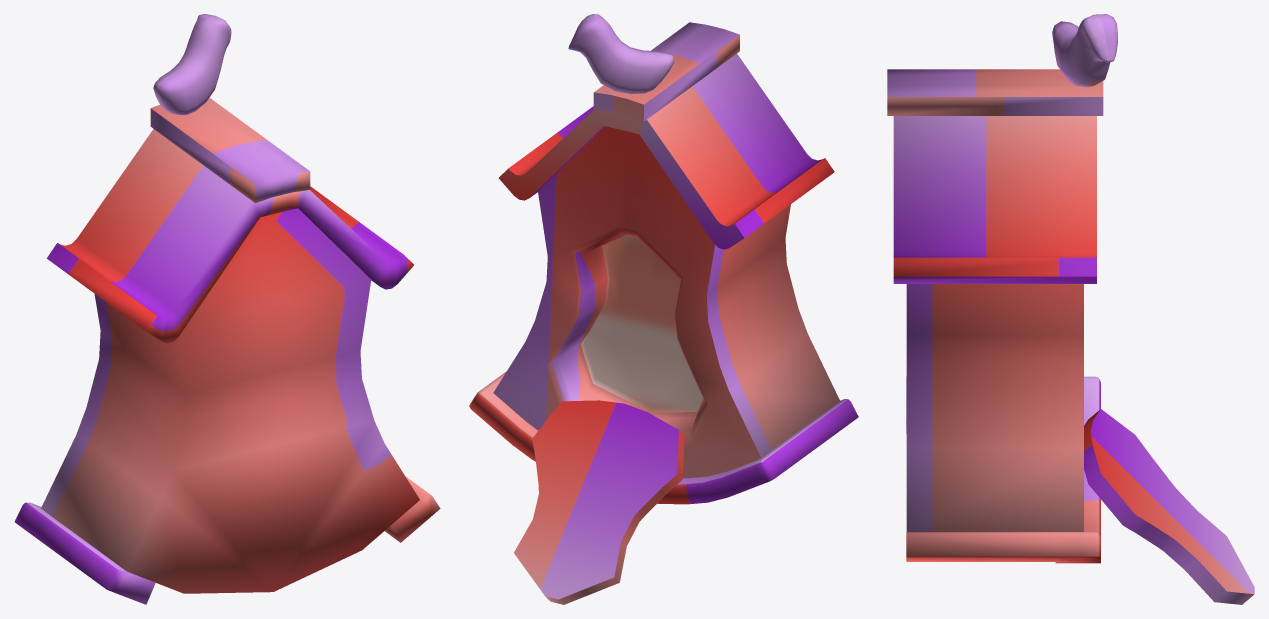
Rendered from MailboxE_red.fbx.
3 views of the same model, side by side, from view 1: azimuth 30°, elevation 25°; view 2: azimuth 150°, elevation 25°; view 3: azimuth 270°, elevation 25° (orthographic). The views are drawn at different scales.
Parts seen in each view (by area): view 1: MailboxE_blue.003, MailboxE_roofs.003, MailboxE_birdie.003; view 2: MailboxE_blue.003, MailboxE_roofs.003, MailboxE_door.003, MailboxE_birdie.003; view 3: MailboxE_roofs.003, MailboxE_blue.003, MailboxE_door.003, MailboxE_birdie.003.
Part boxes in pixels (x1,y1,x2,y2): MailboxE_blue.003: [41, 208, 419, 593]; MailboxE_roofs.003: [14, 97, 440, 604]; MailboxE_birdie.003: [153, 14, 231, 114]; MailboxE_blue.003: [493, 126, 839, 478]; MailboxE_roofs.003: [469, 22, 858, 504]; MailboxE_door.003: [514, 400, 684, 604]; MailboxE_birdie.003: [568, 14, 674, 94]; MailboxE_roofs.003: [887, 69, 1103, 563]; MailboxE_blue.003: [906, 284, 1083, 531]; MailboxE_door.003: [1084, 409, 1254, 604]; MailboxE_birdie.003: [1052, 14, 1117, 87].
Bounding box in the file's own units: 131 × 219 × 121.
